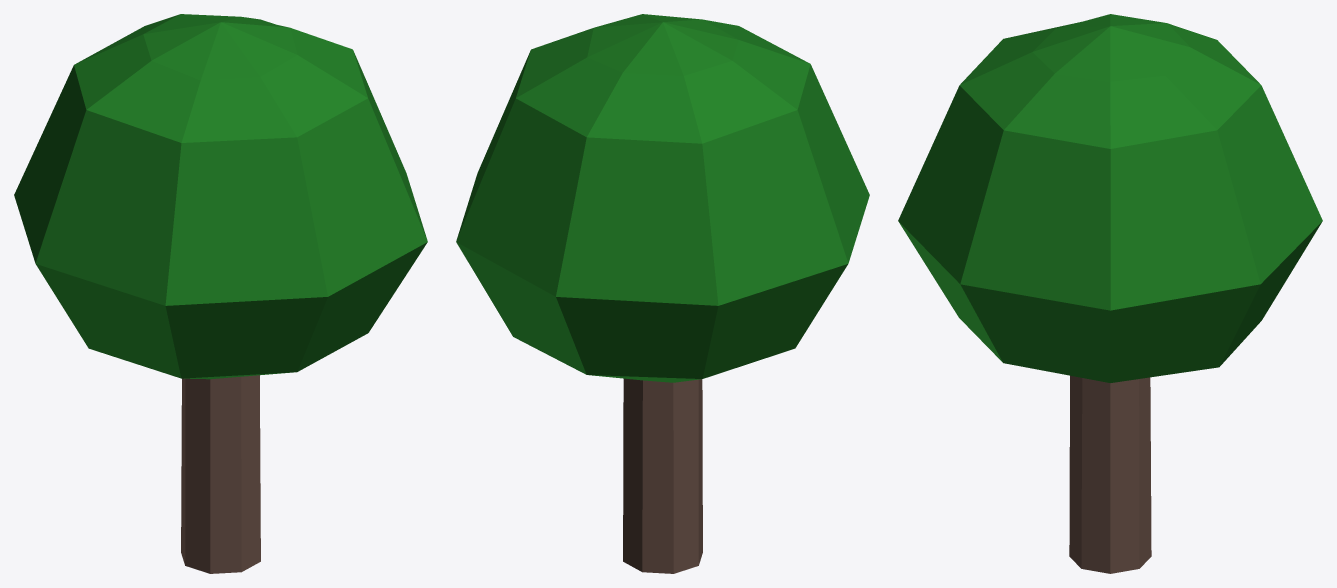
The model's file is tree3.fbx.
The picture shows the model from 3 angles, left to right: view 1: azimuth 30°, elevation 25°; view 2: azimuth 150°, elevation 25°; view 3: azimuth 270°, elevation 25°; orthographic projection.
Visible parts, largest first — view 1: arbre3; view 2: arbre3; view 3: arbre3.
Part boxes in pixels (box(x1,y1,x2,y2)): arbre3: box(14, 14, 427, 573); arbre3: box(456, 14, 869, 573); arbre3: box(898, 14, 1322, 573).
Bounding box in the file's own units: 125 × 173 × 125.
